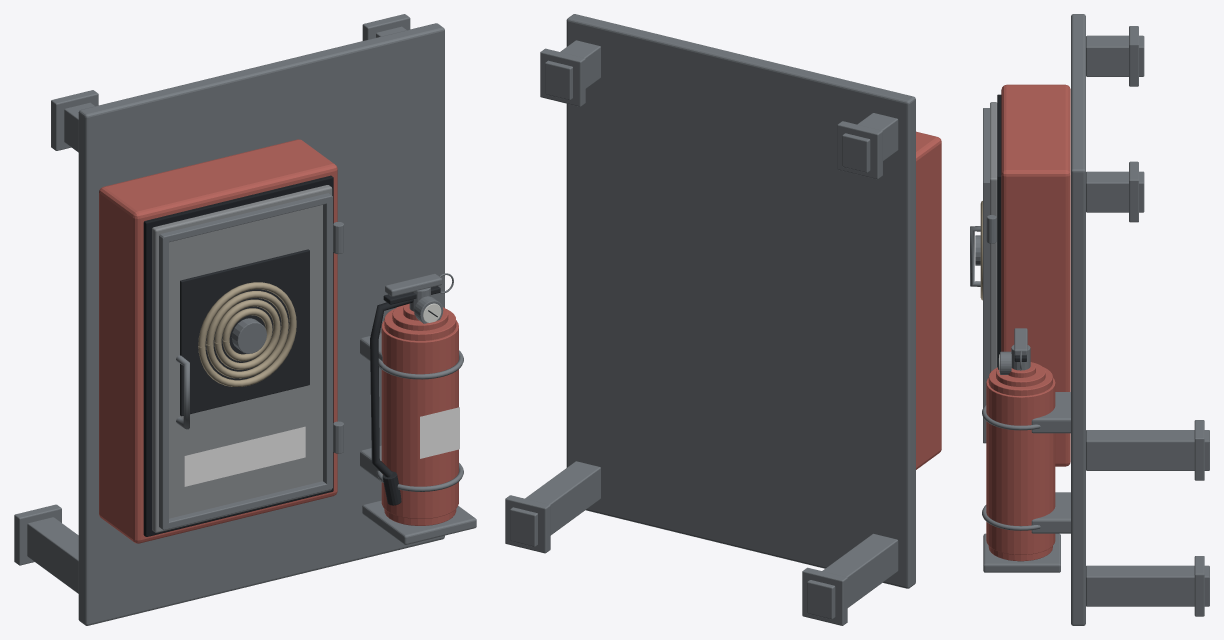
Rendered from BP_WallSafety_R8.fbx.
3 renders of one model, left to right at view 1: azimuth 30°, elevation 25°; view 2: azimuth 150°, elevation 25°; view 3: azimuth 270°, elevation 25°, orthographic. The views are drawn at different scales.
Parts seen in each view (by area): view 1: BP_WallSafety_R8; view 2: BP_WallSafety_R8; view 3: BP_WallSafety_R8.
Part boxes in pixels (x1,y1,x2,y2): BP_WallSafety_R8: [14, 14, 476, 625]; BP_WallSafety_R8: [505, 14, 941, 625]; BP_WallSafety_R8: [970, 14, 1209, 625].
Bounding box in the file's own units: 134 × 182 × 86.62.
